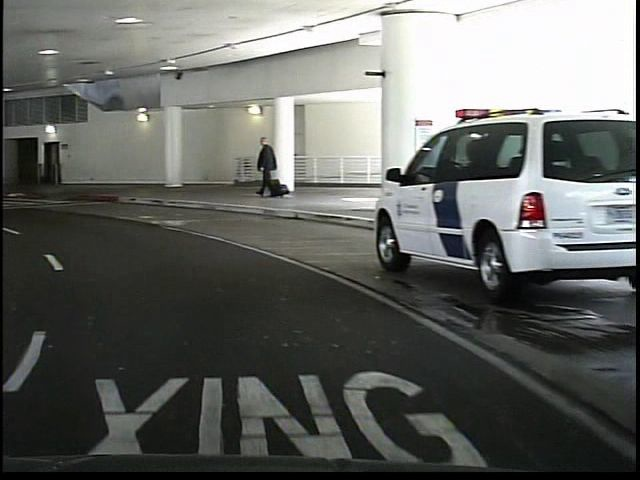person: (249, 133, 275, 202)
